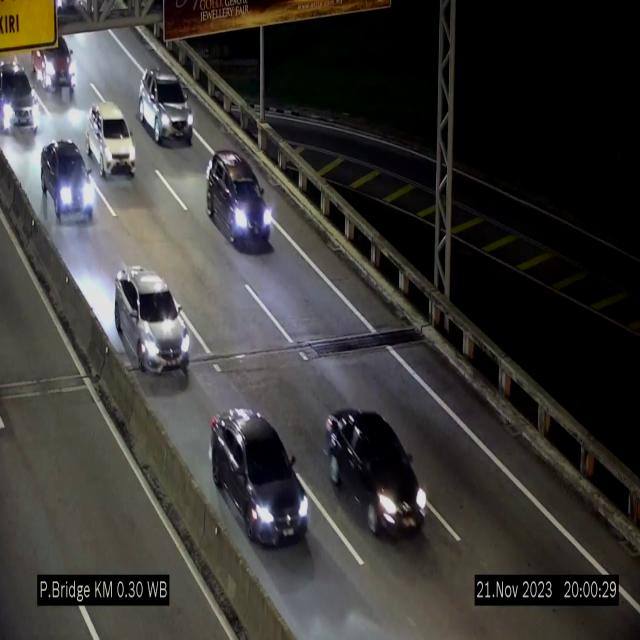Car: (324, 404, 428, 544), (210, 408, 310, 544), (115, 266, 191, 378), (206, 149, 274, 248), (40, 140, 98, 224), (0, 50, 46, 143), (29, 25, 88, 96), (138, 70, 194, 144), (87, 102, 135, 176)
